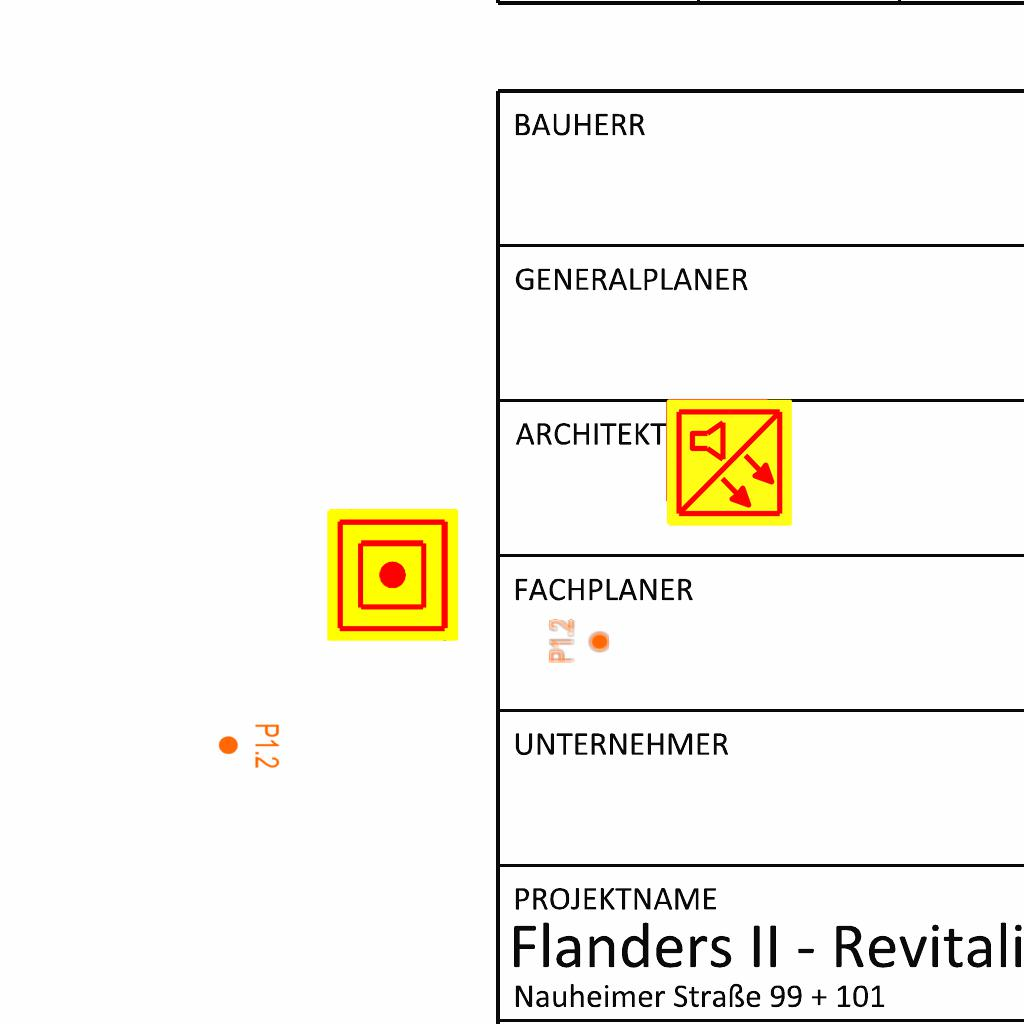Downlight_LED_Einbauleuchten_Flur: (547, 618, 611, 664), (217, 723, 281, 769)
NAM-Nichtautomatischer_Melder: (327, 509, 459, 641)
OKW_Multisensormelder_(Kombination_optischer_Rauch-Kahlenmonoxid_Waerme-Melder): (663, 397, 795, 529)
